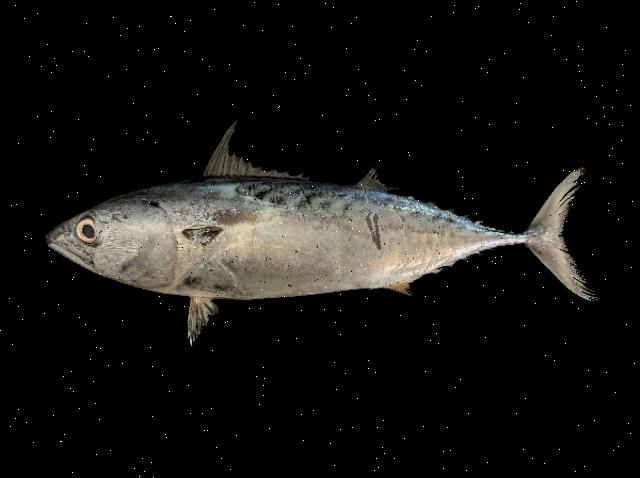Mulut: (28, 198, 84, 284)
Sirip Anal: (370, 271, 436, 313)
Sirip Dada: (173, 214, 240, 253)
Sirip Ekor: (505, 147, 621, 320)
Sirip Perut: (183, 291, 229, 350)
Sirip Punggung: (197, 115, 416, 200)
